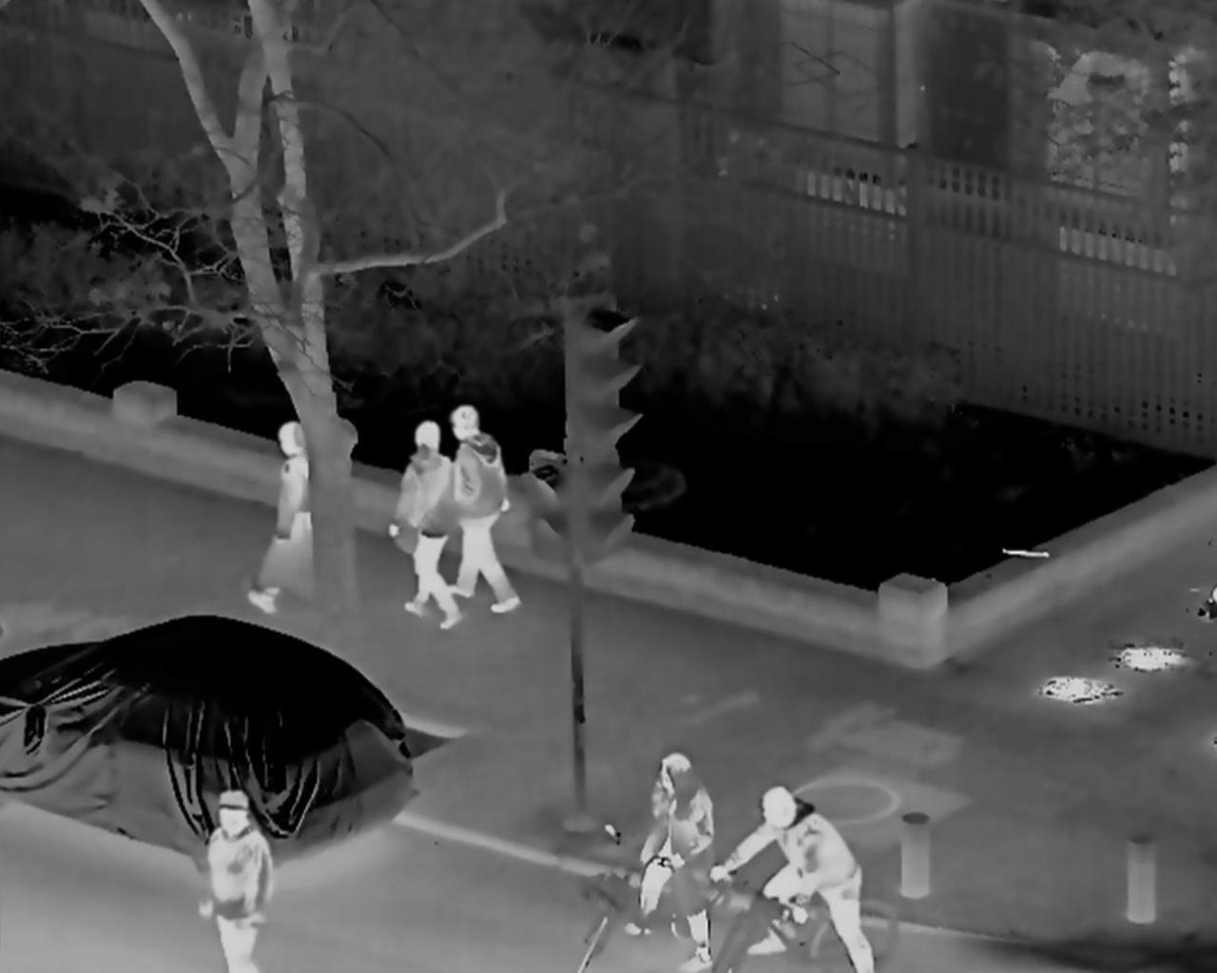person: (706, 780, 877, 973), (631, 751, 717, 972), (243, 423, 337, 614), (442, 410, 524, 616), (379, 424, 460, 627), (200, 787, 267, 973)
